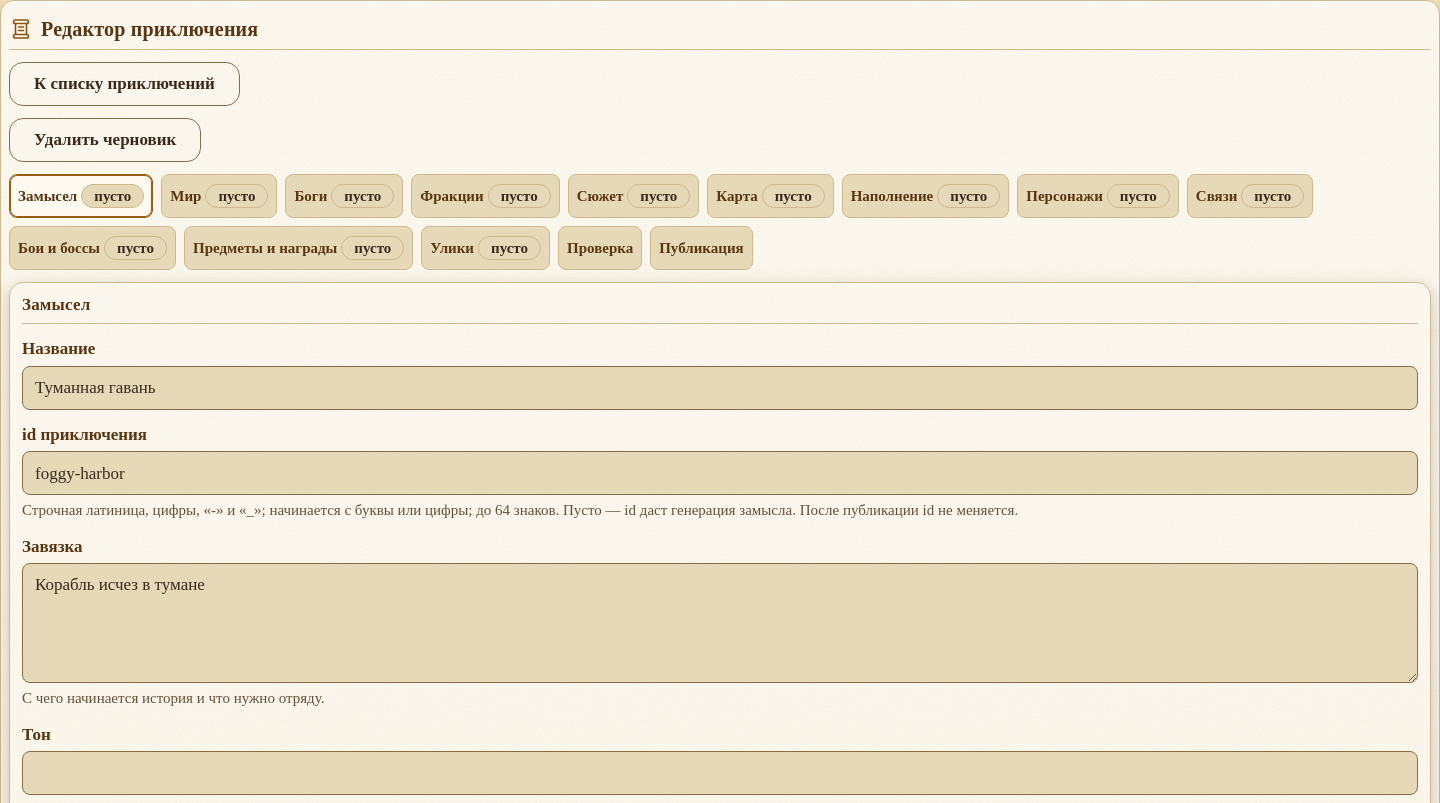
экран «Публикация» › публикация без открытых предметов: POST /publish с {}; 201 — id и подсказка «создать игру на нём»
Click the button "Публикация" at (701,248), box [650,226,753,270]
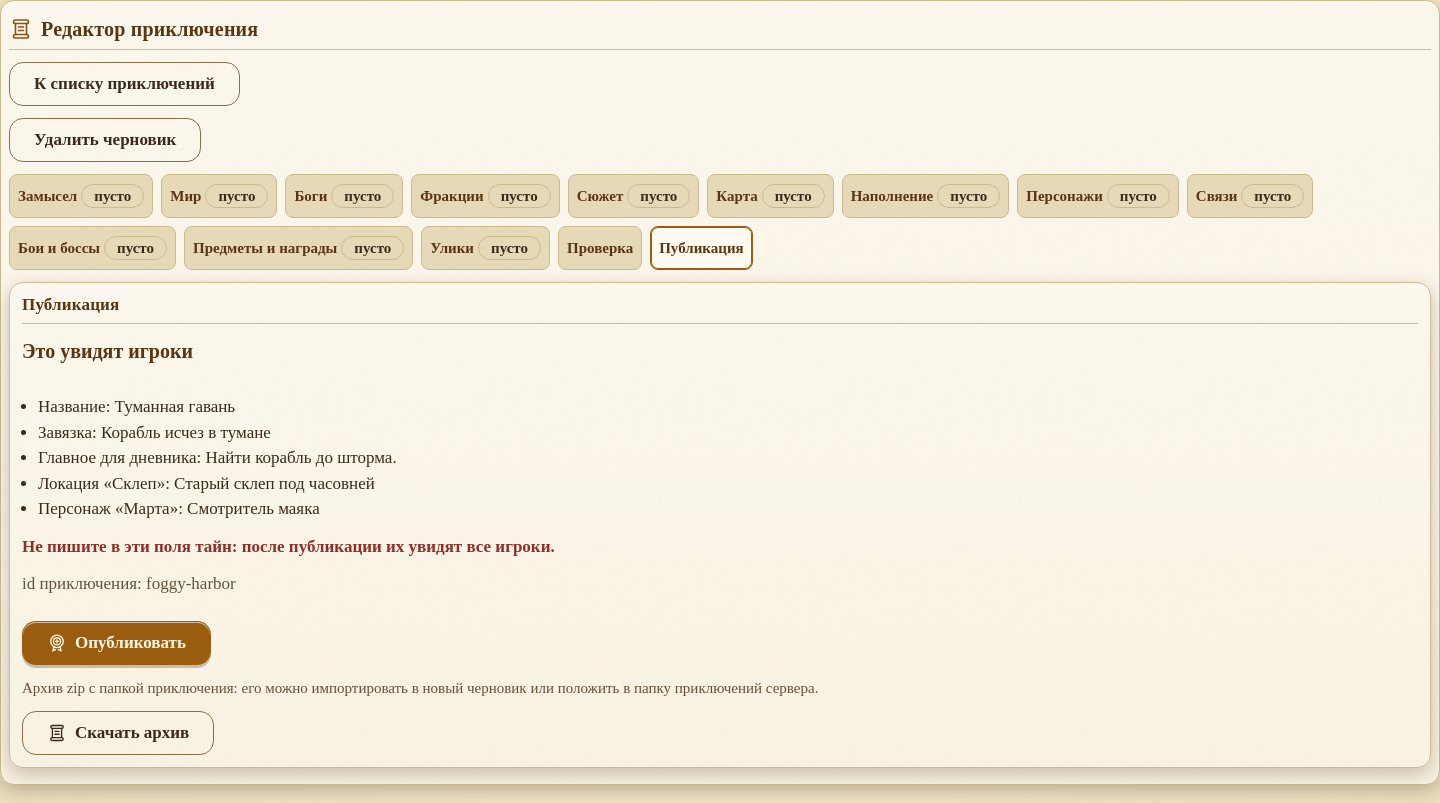
Check: the button "Опубликовать" is enabled
Click the button "Опубликовать" at (116,643), box [22,621,211,665]
(page scrolled)
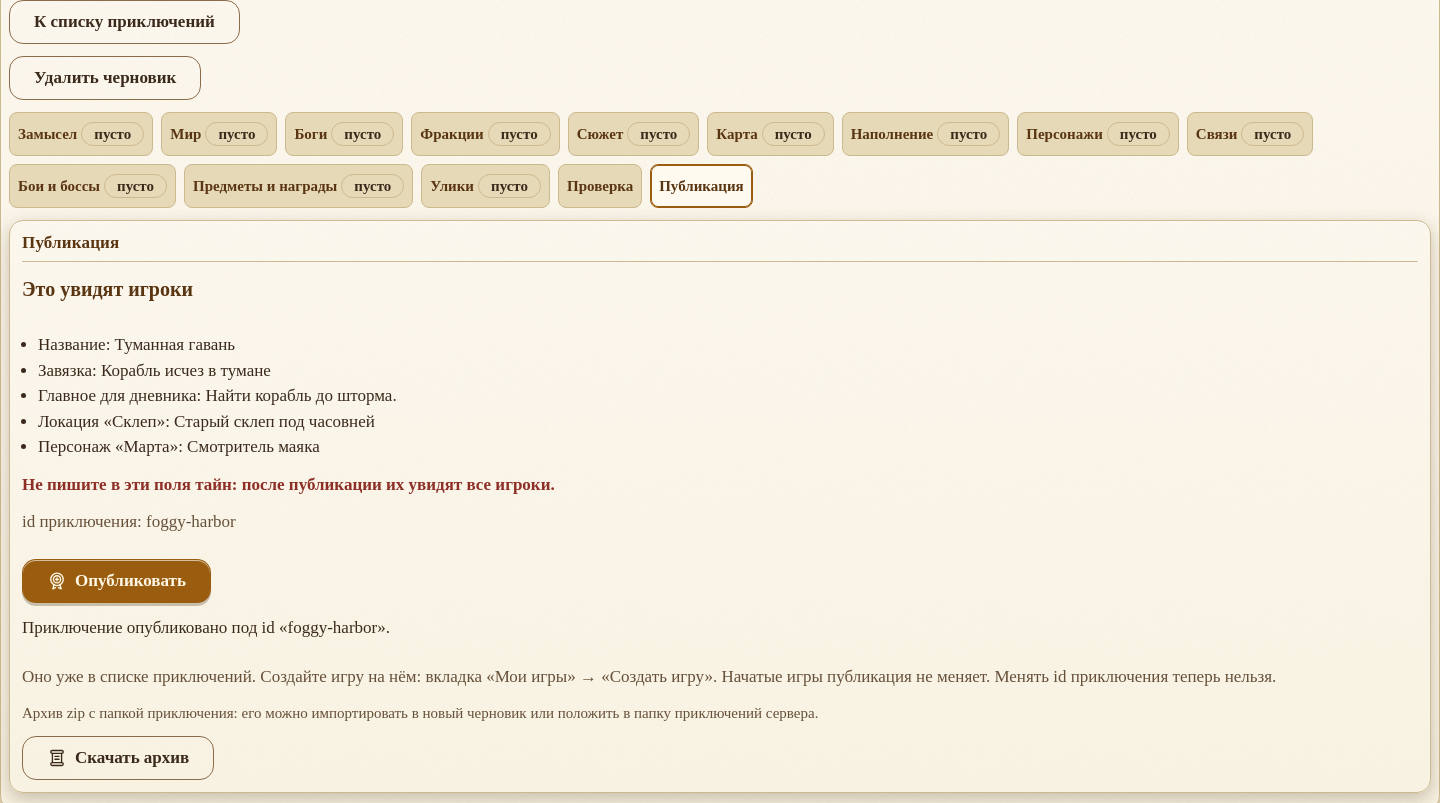
Check: the text "Приключение опубликовано под id «foggy-harbor»." is shown, box [22,618,390,637]
Check: the element "Публикация" shows "Создайте игру на нём: вкладка «Мои игры» → «Создать игру».", box [22,667,1276,686]
